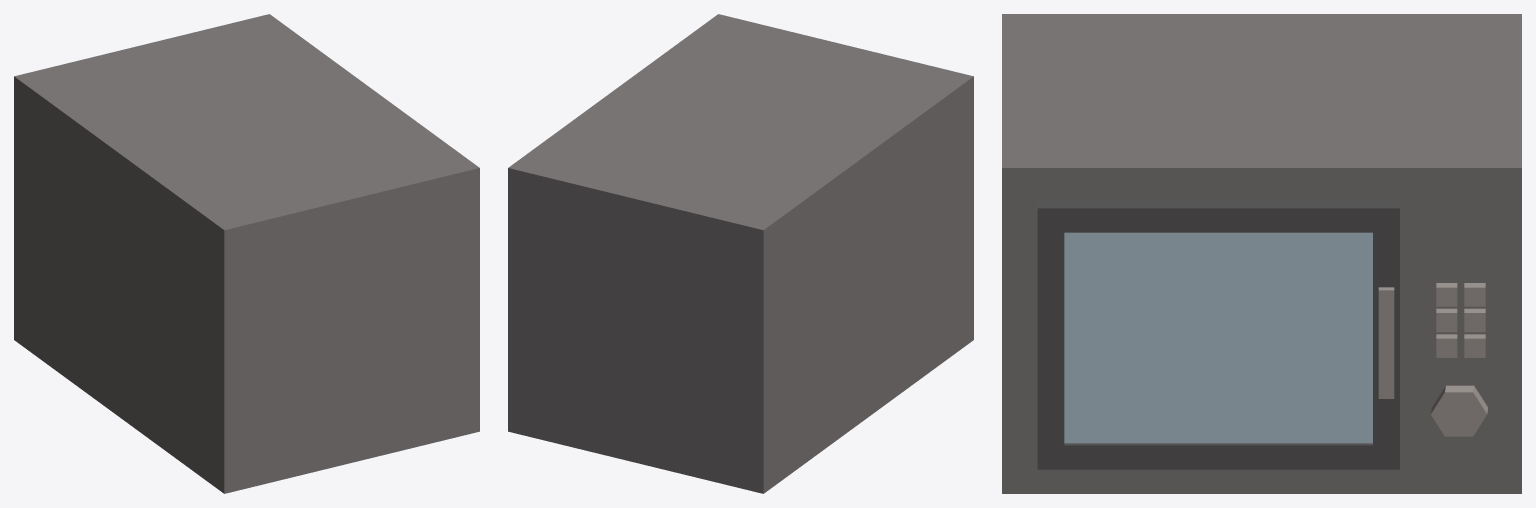
The model's file is microwave_fixed.fbx.
3 views of the same model, side by side, from view 1: azimuth 30°, elevation 25°; view 2: azimuth 150°, elevation 25°; view 3: azimuth 270°, elevation 25° (orthographic). The views are drawn at different scales.
Visible parts, largest first — view 1: microwave_fixed; view 2: microwave_fixed; view 3: microwave_fixed.
Boxes of the visible parts, x1,y1,x2,y2 form: microwave_fixed: [14, 14, 479, 493]; microwave_fixed: [508, 14, 973, 493]; microwave_fixed: [1002, 14, 1521, 493].
Bounding box in the file's own units: 73.72 × 56.26 × 50.99.
